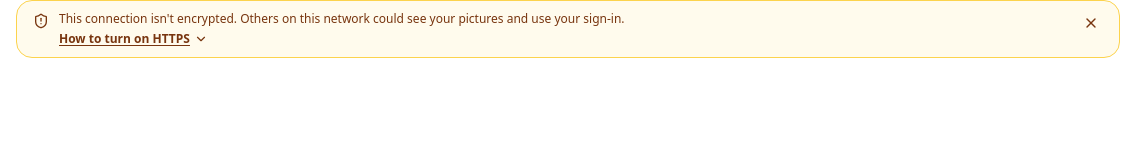
Test case: HttpWarningBanner › tells a viewer to ask the owner
Click the button "How to turn on HTTPS": point(134, 39) [59,31,208,47]
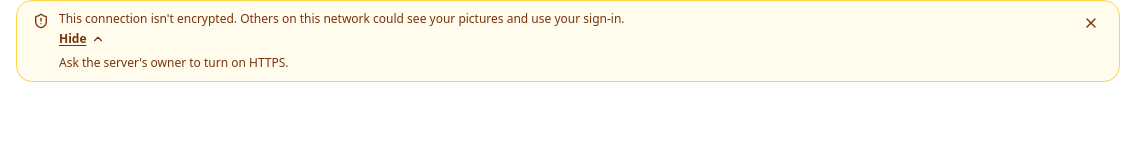
Check: the text "Ask the server's owner to turn on HTTPS." is shown, box [59,54,289,71]
